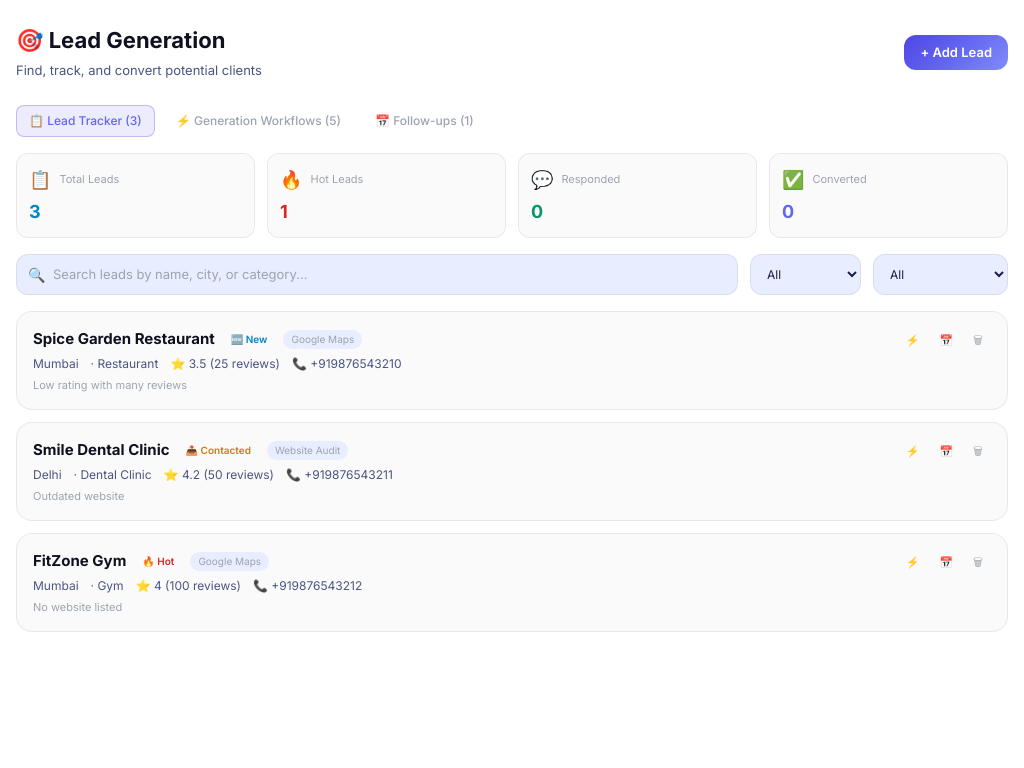
Test: LeadsTab › add lead modal › opens add lead form when button is clicked
The image size is (1024, 768).
Click the button "+ Add Lead": (956, 52) top-left (904, 34), bottom-right (1008, 70)
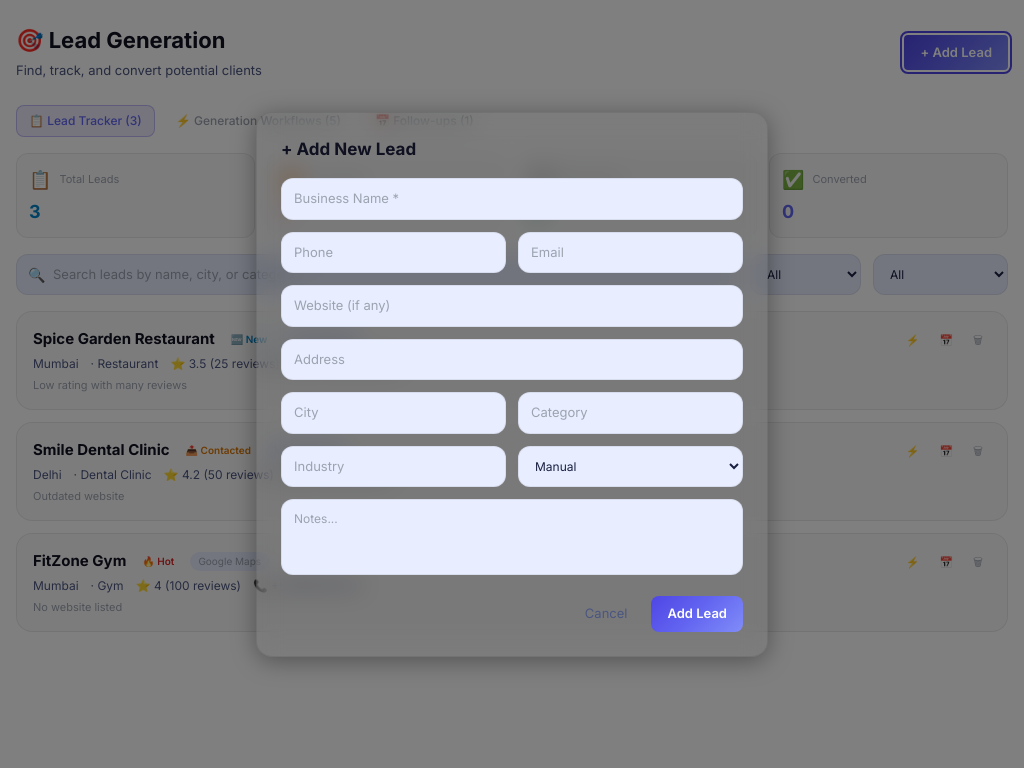
expect the heading "+ Add New Lead" is shown: met, box top-left (281, 138), bottom-right (416, 158)
expect the field with placeholder "Business Name *" is shown: met, box top-left (281, 178), bottom-right (743, 220)
